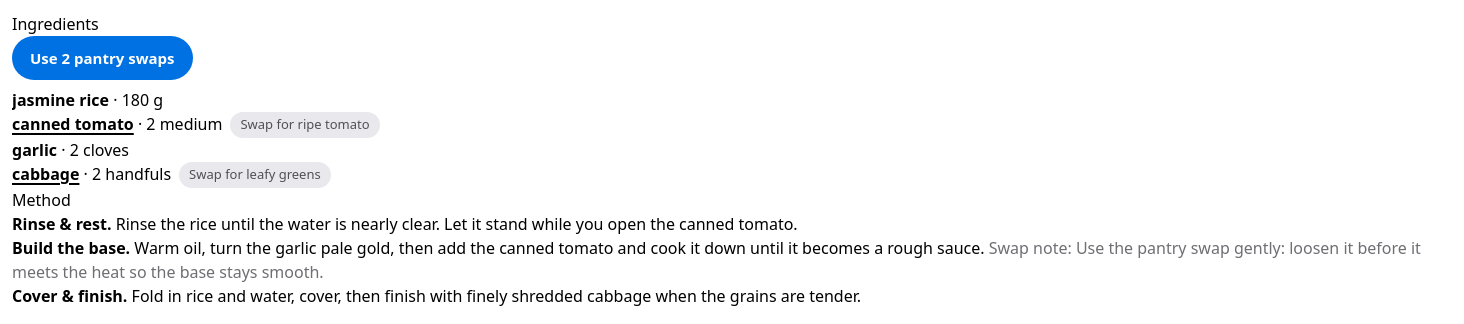
Test: pantry swaps › rewrites the method to match the swapped ingredients
Earlier steps of the test are not shown.
expect the list does not show "ripe tomato": met
expect the list does not show "leafy greens": met
Click the button "Use 2 pantry swaps": (102, 58) top-left (12, 36), bottom-right (192, 80)
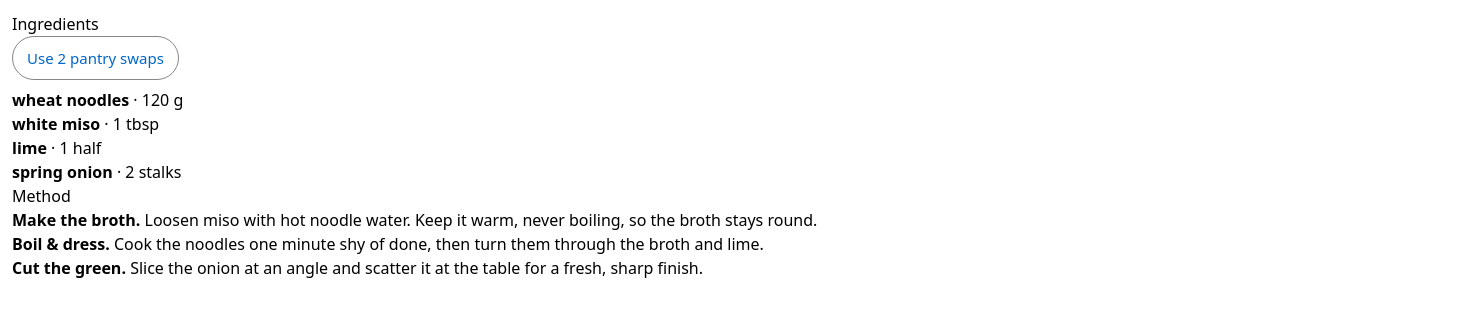
Click the button "Use 2 pantry swaps": (95, 58) top-left (12, 36), bottom-right (179, 80)
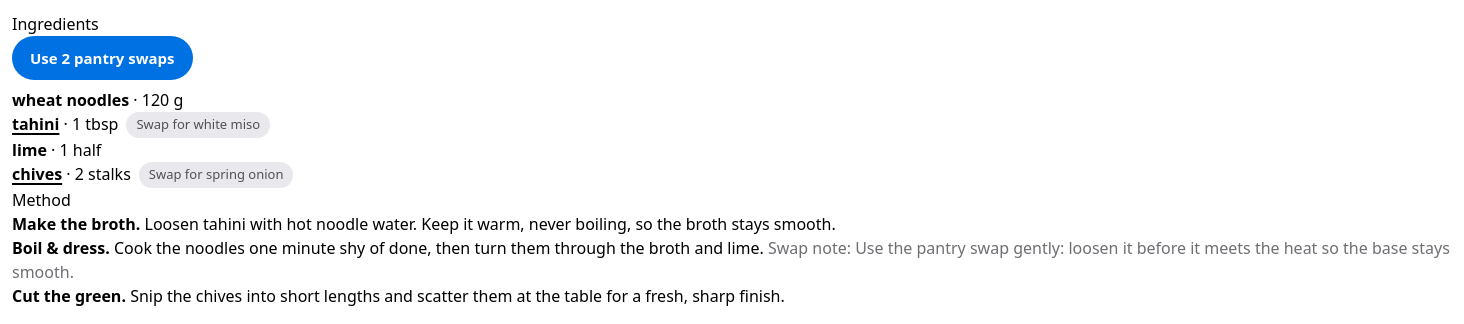
expect the list does not show "white miso": met
expect the list does not show "spring onion": met
Click the button "Use 2 pantry swaps": (102, 58) top-left (12, 36), bottom-right (192, 80)
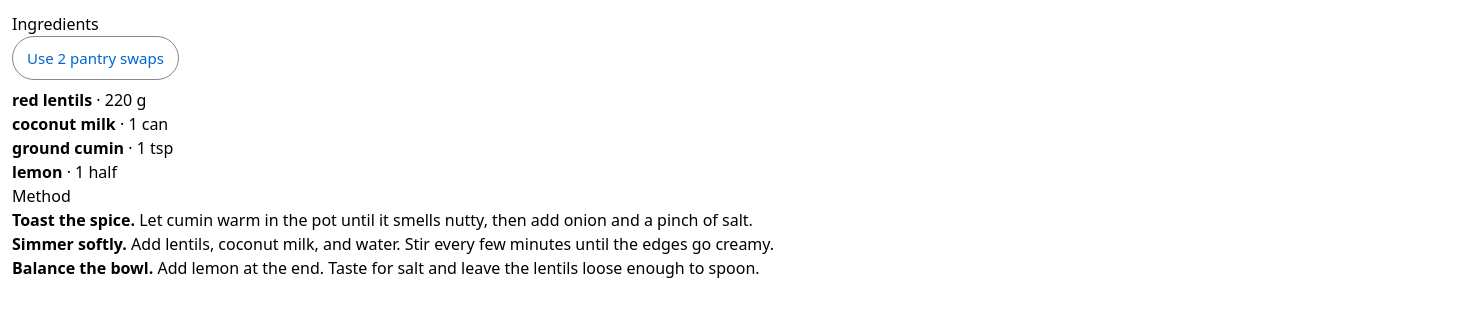
Click the button "Use 2 pantry swaps": (95, 58) top-left (12, 36), bottom-right (179, 80)
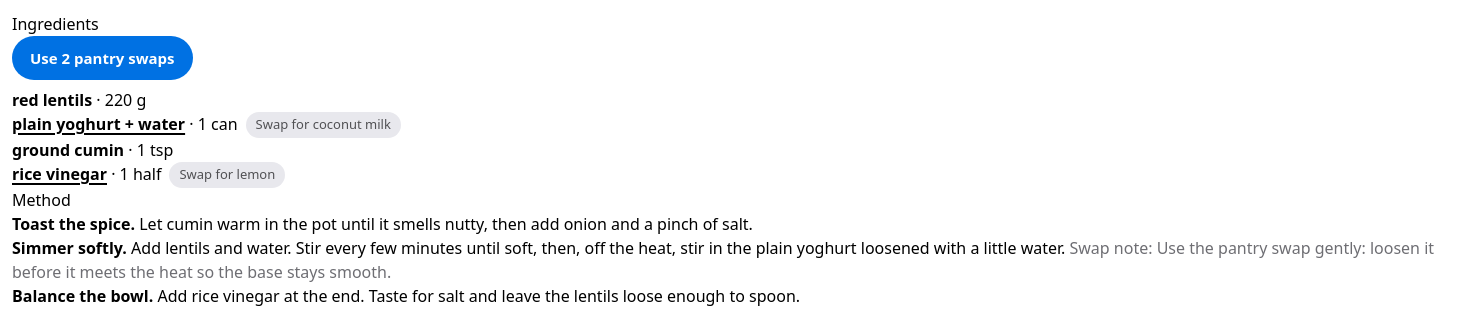
expect the list no longer shows "coconut milk": met
expect the list no longer shows "lemon": met
Click the button "Use 2 pantry swaps": (102, 58) top-left (12, 36), bottom-right (192, 80)
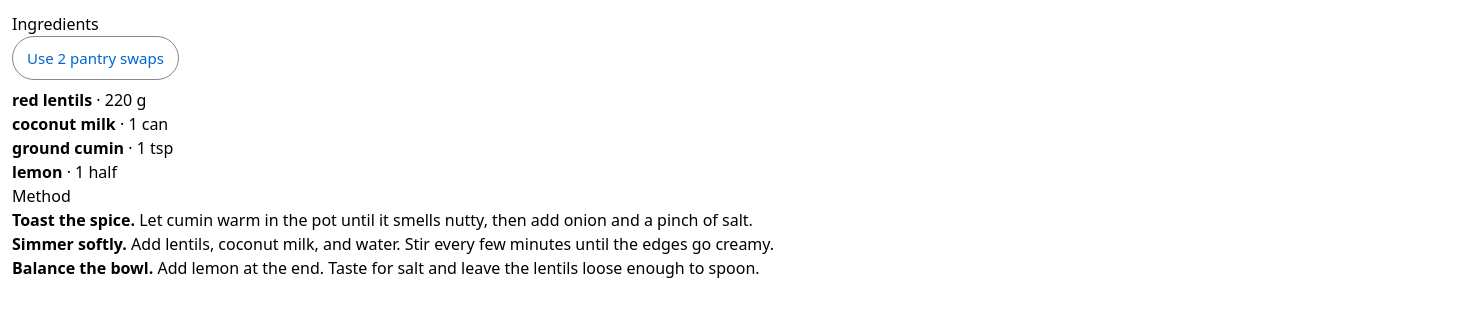
Click the button "Use 2 pantry swaps": (95, 58) top-left (12, 36), bottom-right (179, 80)
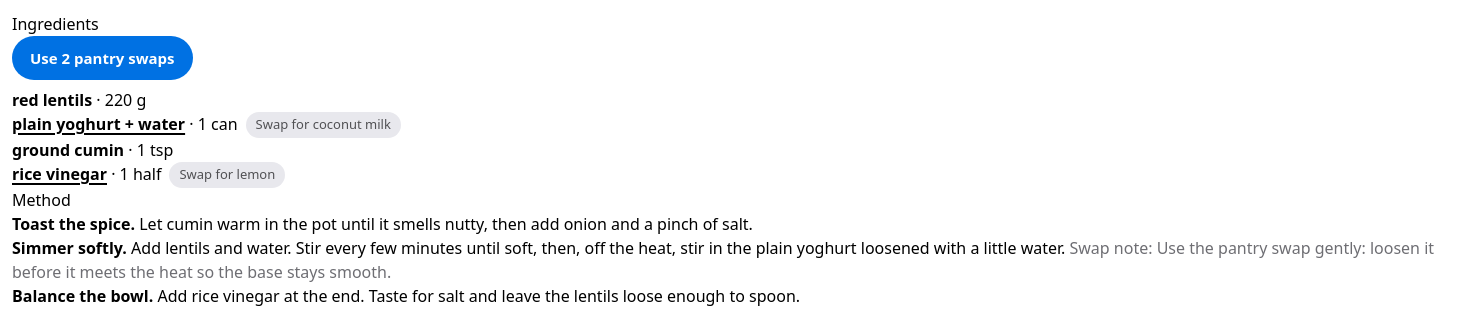
expect the list that starts with "Toast the spice" shows "plain yoghurt": met, box top-left (131, 237), bottom-right (1065, 259)
expect the list that starts with "Toast the spice" shows "Add rice vinegar at the end.": met, box top-left (157, 285), bottom-right (800, 307)
